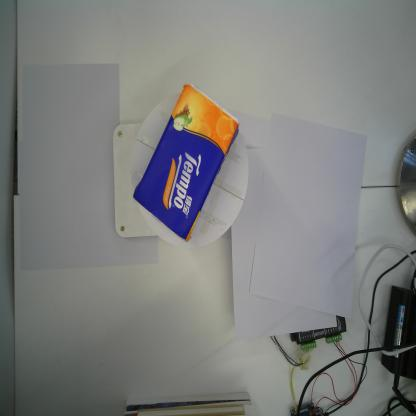Tissue: (132, 82, 242, 242)
